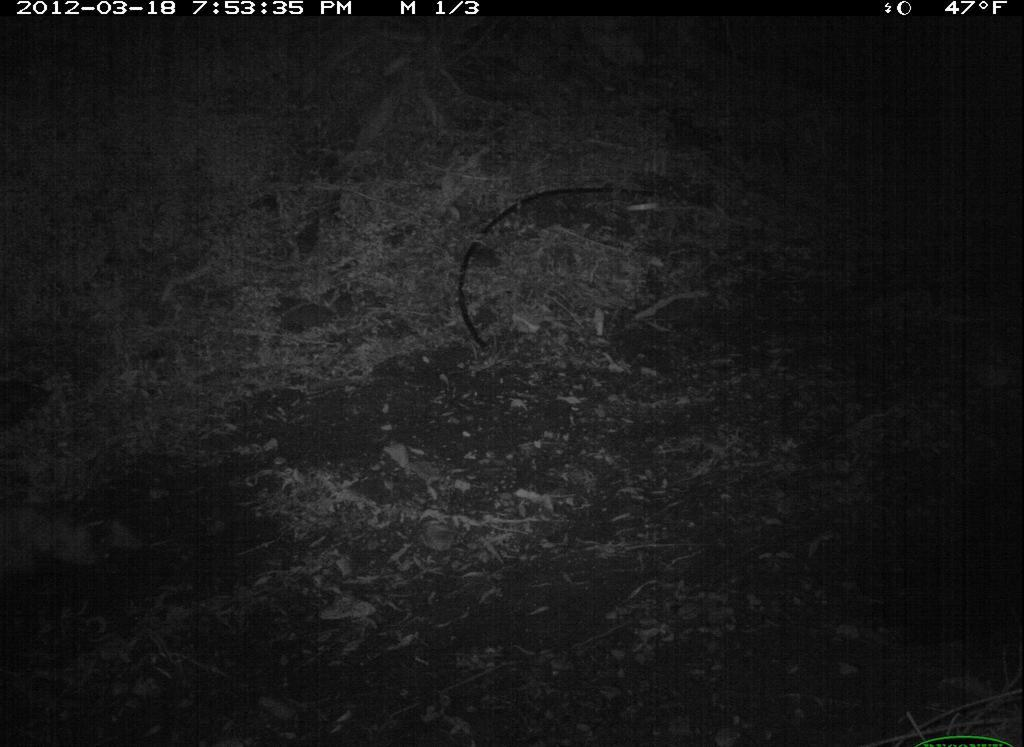opossum: (1, 494, 130, 577)
